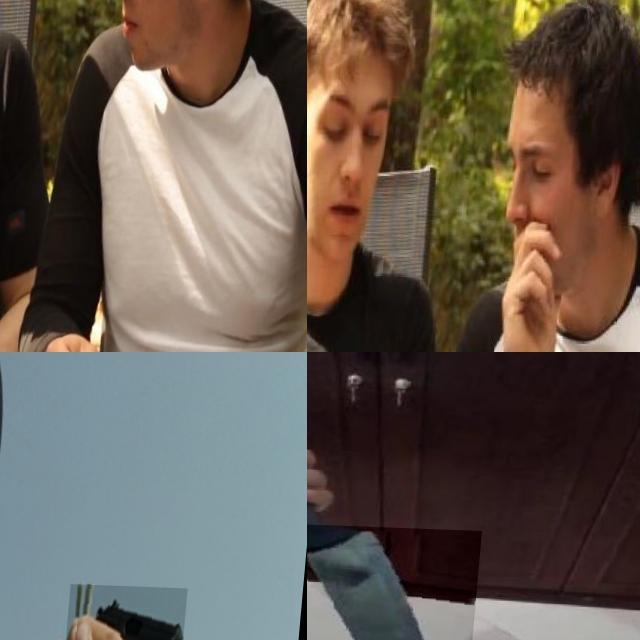-: (307, 522, 486, 640), (0, 259, 40, 352)
gun-knife-thesis - v11 Yolov5 augmented: (59, 580, 193, 640)
